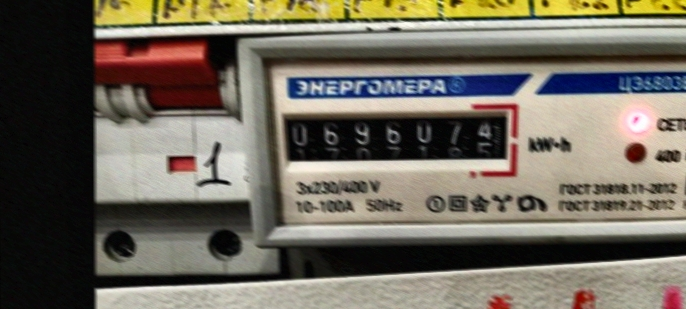0: (289, 119, 308, 144), (416, 115, 432, 141)
4: (477, 114, 493, 138)
5: (477, 138, 492, 156)
6: (322, 116, 341, 143), (384, 117, 401, 141)
7: (445, 116, 463, 142)
9: (352, 117, 371, 142)
screen: (271, 96, 523, 178)
